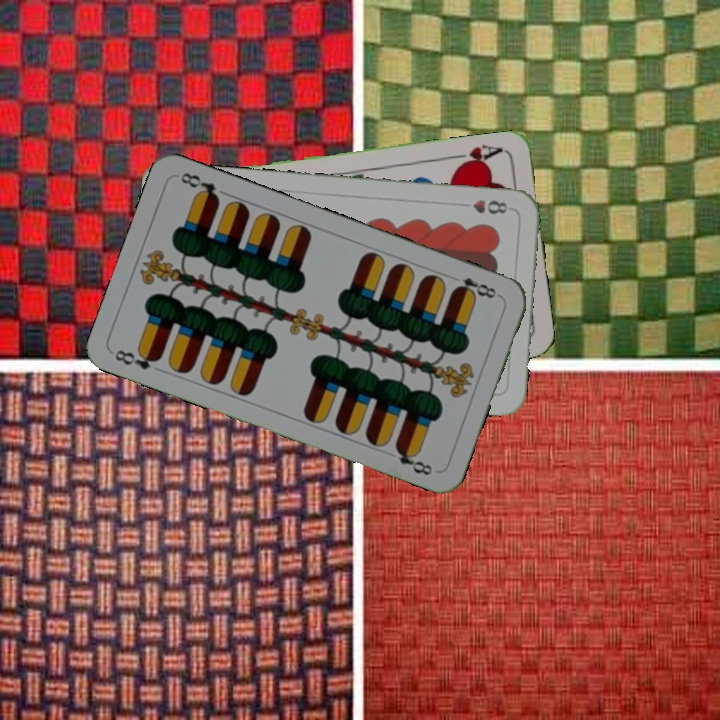E8: (447, 271, 503, 302), (110, 345, 164, 372)
H8: (455, 195, 510, 217)
HA: (448, 140, 506, 171)
